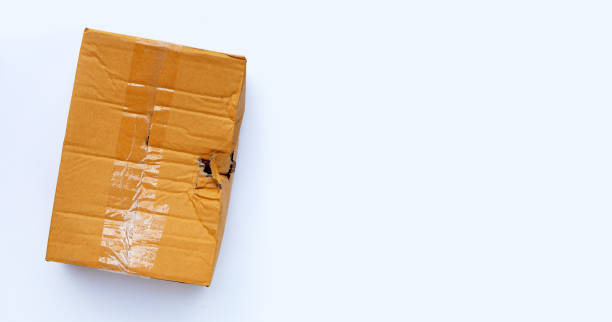damaged package: (196, 150, 239, 210)
